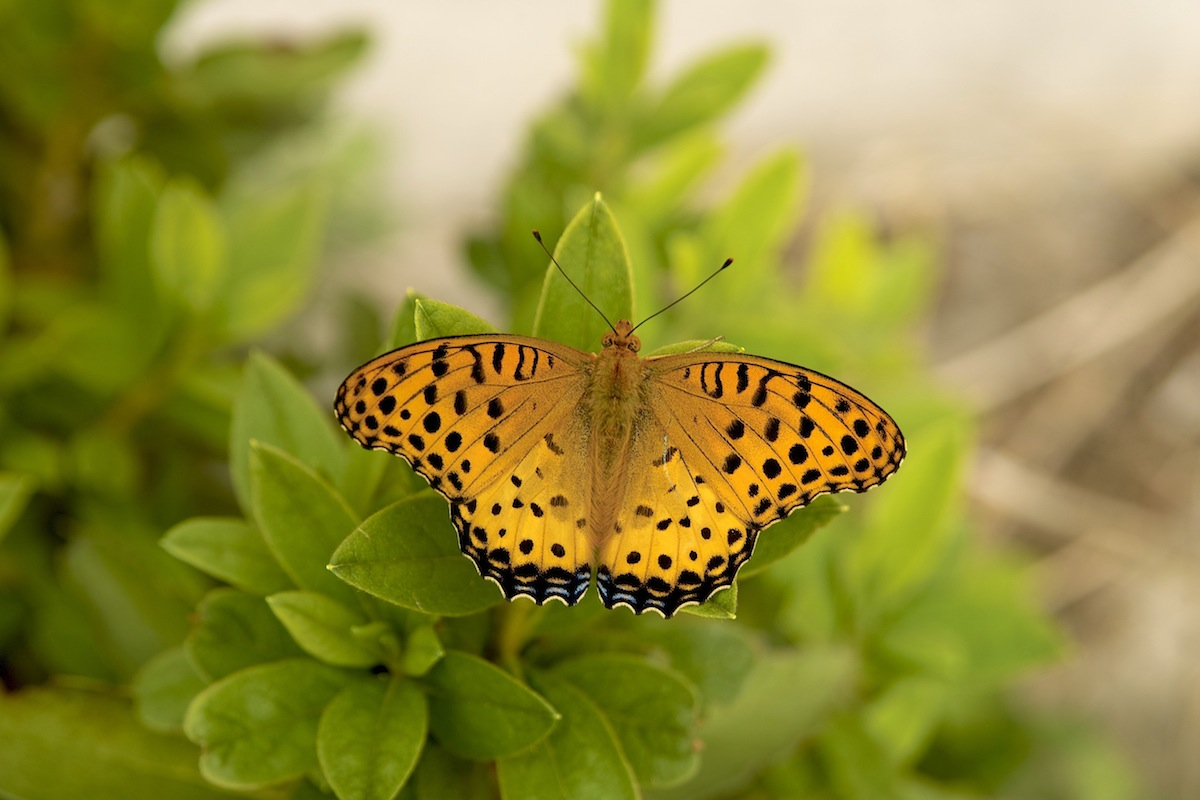Argyreus hyperbius: (333, 217, 913, 624)
butterfly: (335, 219, 915, 626)
